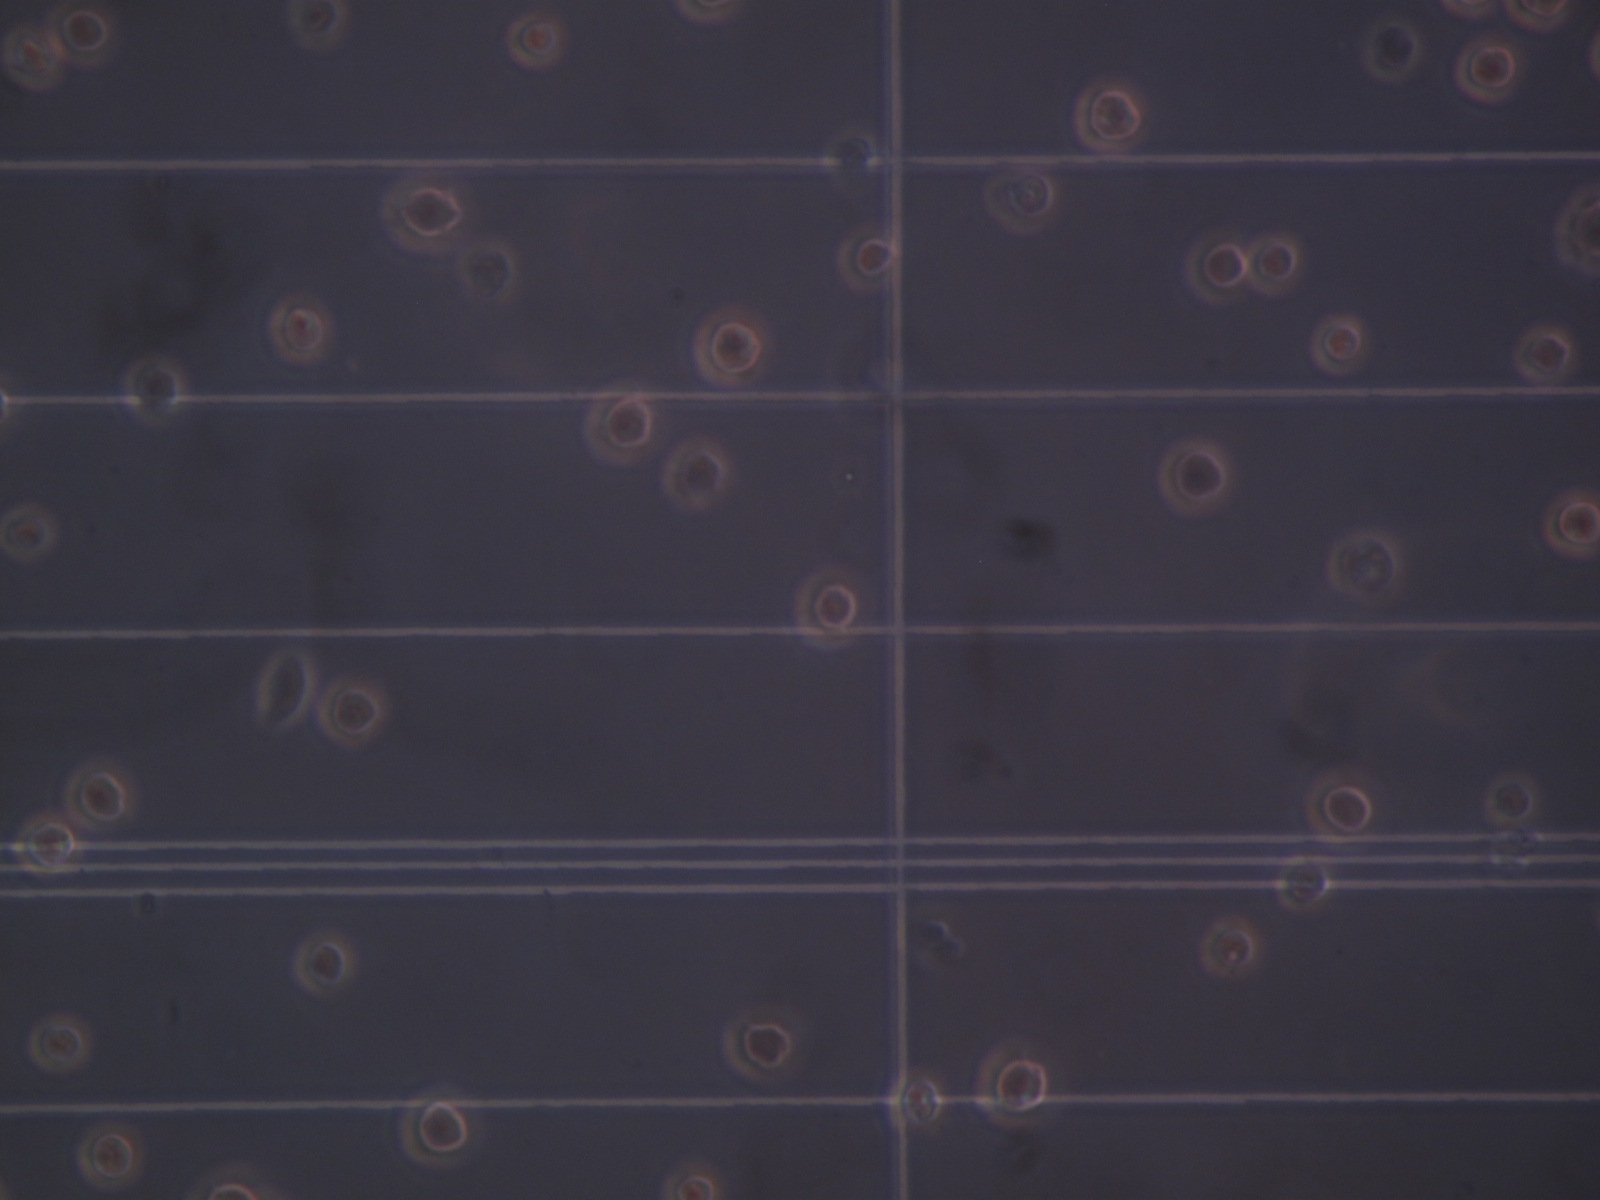hemo: (973, 1042, 1066, 1132), (721, 1005, 809, 1092), (398, 1083, 483, 1167), (382, 171, 464, 255), (586, 379, 661, 466), (1157, 437, 1233, 521), (792, 562, 859, 650), (1075, 76, 1150, 151), (1328, 527, 1402, 604), (690, 308, 763, 383), (120, 350, 189, 429), (317, 676, 391, 749), (1306, 764, 1372, 843), (66, 761, 139, 831), (661, 440, 729, 513), (290, 929, 358, 1002), (879, 1066, 949, 1137), (3, 24, 71, 95), (984, 170, 1054, 234), (260, 648, 312, 734), (270, 295, 333, 367), (78, 1123, 142, 1192), (1184, 233, 1247, 304), (1553, 180, 1600, 274), (1199, 914, 1264, 981), (456, 237, 520, 303), (834, 224, 897, 291), (50, 4, 118, 66), (1454, 38, 1516, 105), (30, 1012, 93, 1074), (14, 816, 79, 875), (1, 498, 59, 565), (1545, 488, 1599, 558), (1363, 18, 1421, 83), (504, 13, 567, 72), (1309, 315, 1369, 376), (1272, 855, 1330, 916), (1246, 234, 1301, 297), (1516, 326, 1572, 384), (1482, 770, 1538, 824), (289, 1, 346, 53), (191, 1165, 275, 1200), (663, 1156, 726, 1200), (1506, 1, 1569, 32)
